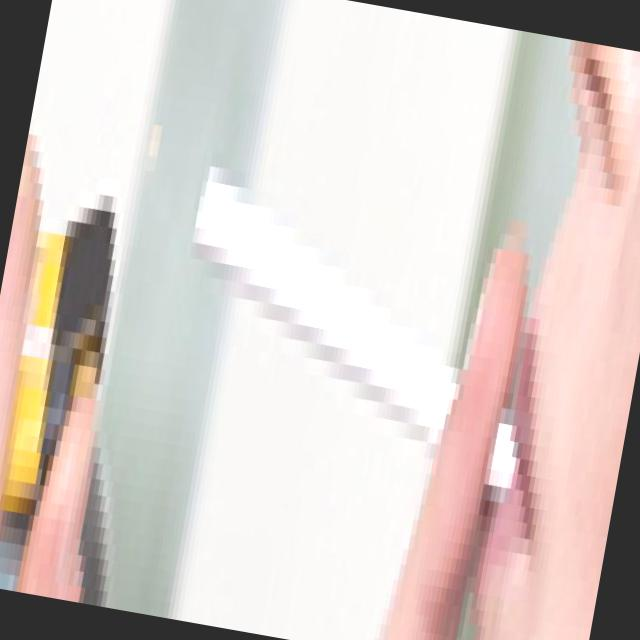smoke: (155, 148, 568, 490)
